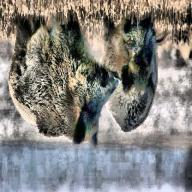boar: (10, 4, 119, 153), (105, 8, 175, 129)
